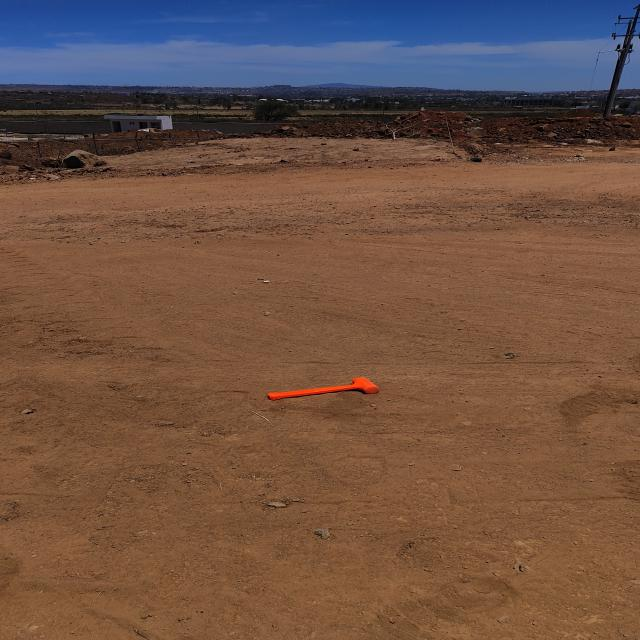Orange_hammer: (265, 376, 379, 401)
